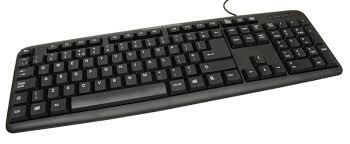keyboard: (5, 1, 344, 134)
